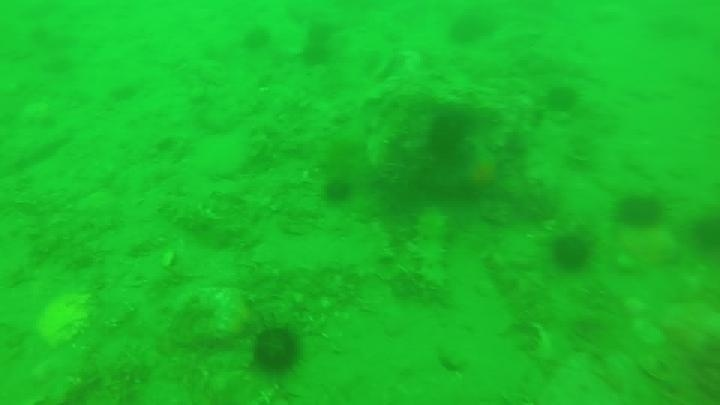echinus: (250, 324, 304, 377), (424, 110, 472, 161), (613, 192, 666, 231), (549, 232, 594, 274), (447, 11, 498, 47), (689, 211, 720, 256), (543, 83, 581, 114), (321, 176, 354, 206), (300, 40, 333, 69), (240, 25, 273, 53)
holothurian: (408, 204, 454, 299), (156, 193, 236, 245)
starfish: (453, 143, 509, 200)
